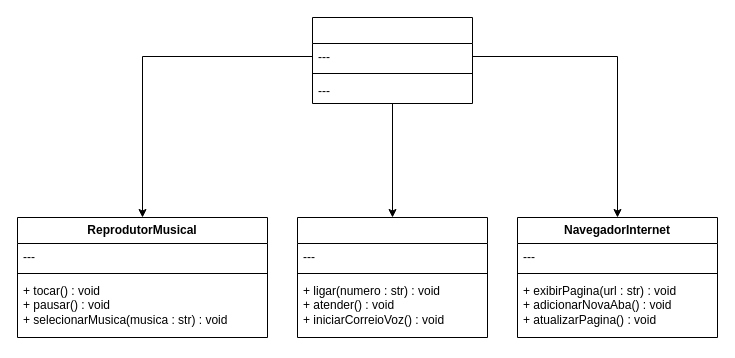
The diagram is 735 pixels wide and 358 high, and some of its shapes have lost their labels. The shapes that lost their labels are listed below. From the top down, each one's box as (x1, y1, x2, y2) in pixels, then its label:
(312, 16, 472, 104): iPhone
(296, 216, 488, 338): AparelhoTelefonico
